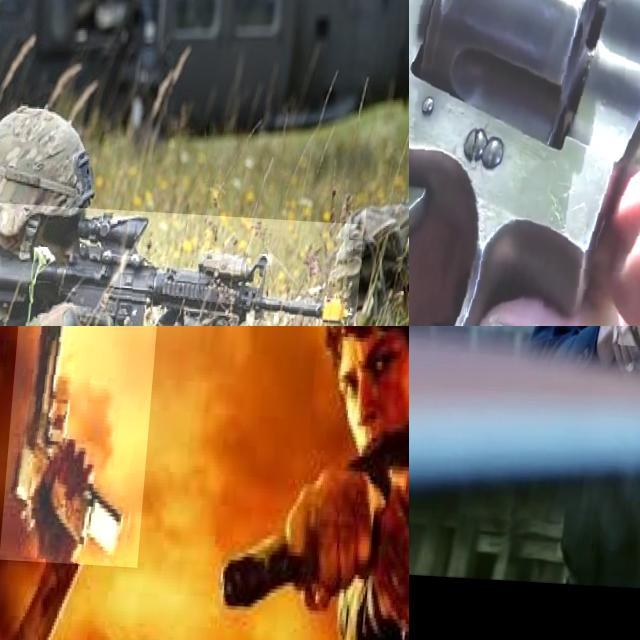gun-knife-thesis - v11 Yolov5 augmented: (409, 0, 640, 326), (0, 197, 369, 326), (5, 326, 163, 564), (218, 428, 384, 630)
